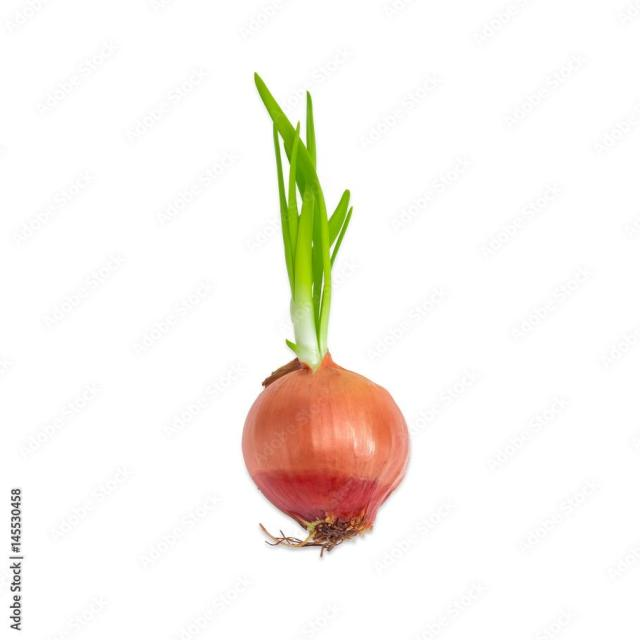sprouting: (213, 40, 439, 640)
